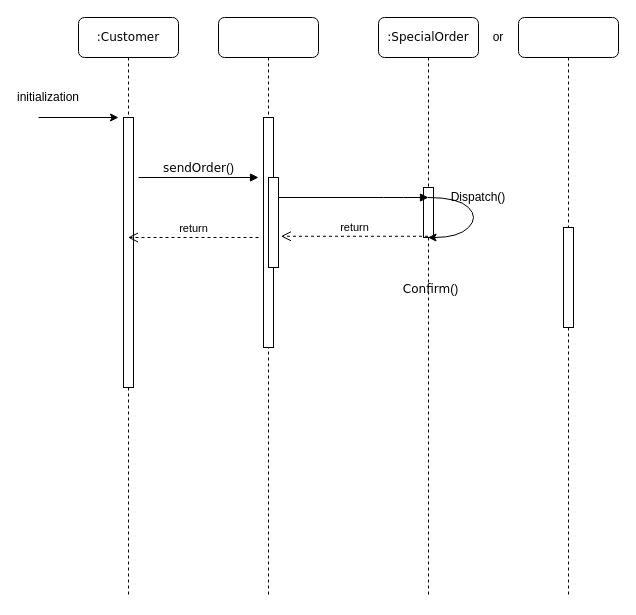
This 636x615 diagram has some shape labels left out. The shapes that lost their labels are listed below. From the top down, each one's centre as x and y in pixels, then its label:
At (268,307): ":Order".
At (568,307): ":NormalOrder".
